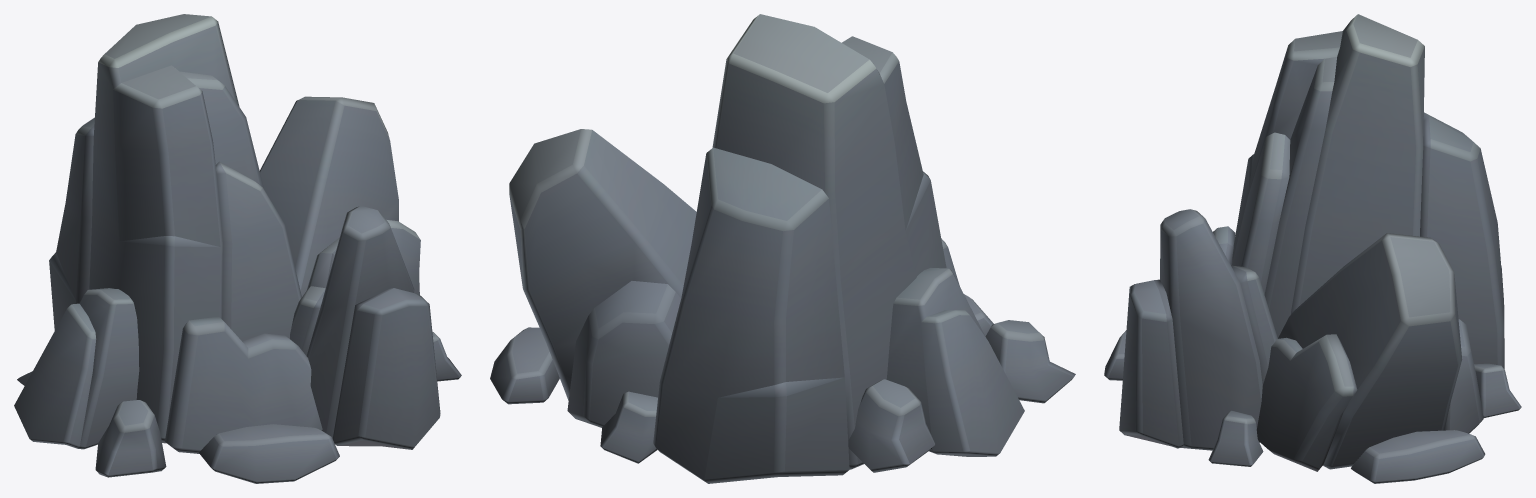
File: rock_group_medium_1.fbx
3 views of the same model, side by side, from view 1: azimuth 30°, elevation 25°; view 2: azimuth 150°, elevation 25°; view 3: azimuth 270°, elevation 25° (orthographic). The views are drawn at different scales.
Visible parts, largest first — view 1: rock_arrangement_medium_1; view 2: rock_arrangement_medium_1; view 3: rock_arrangement_medium_1.
Part boxes in pixels (x1=…): rock_arrangement_medium_1: x1=14, y1=14, x2=461, y2=483; rock_arrangement_medium_1: x1=490, y1=14, x2=1075, y2=483; rock_arrangement_medium_1: x1=1104, y1=14, x2=1521, y2=483.
Bounding box in the file's own units: 532 × 473 × 475.
